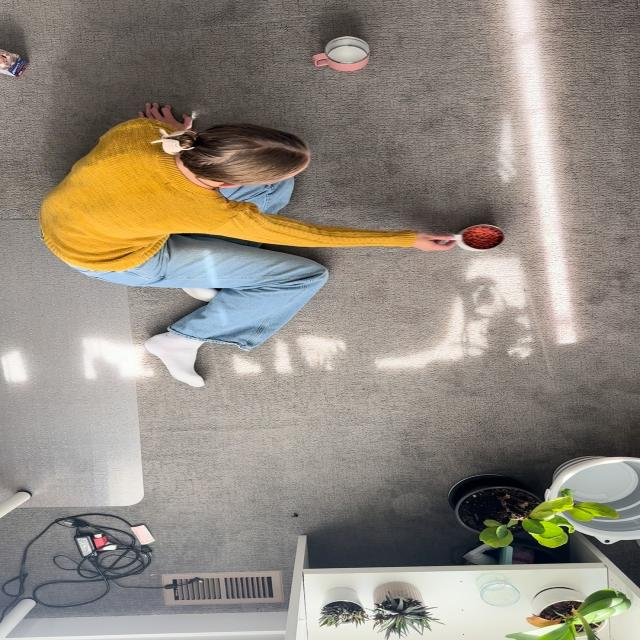IBC: (312, 37, 370, 72), (456, 224, 504, 251)
